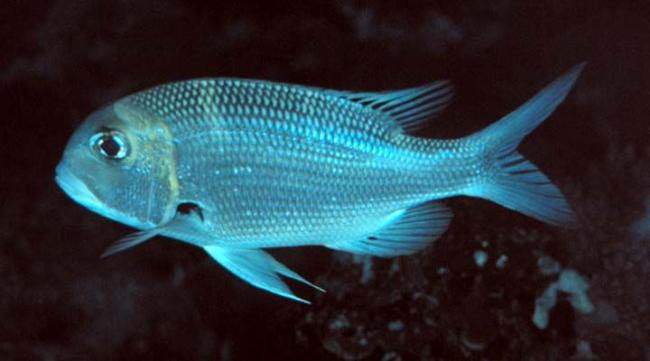fish: (55, 78, 582, 303)
